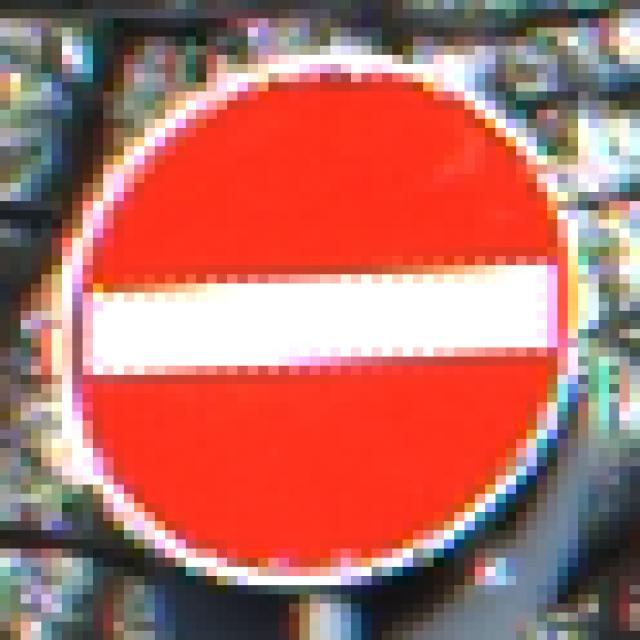Sens-Interdit: (37, 25, 606, 625)
